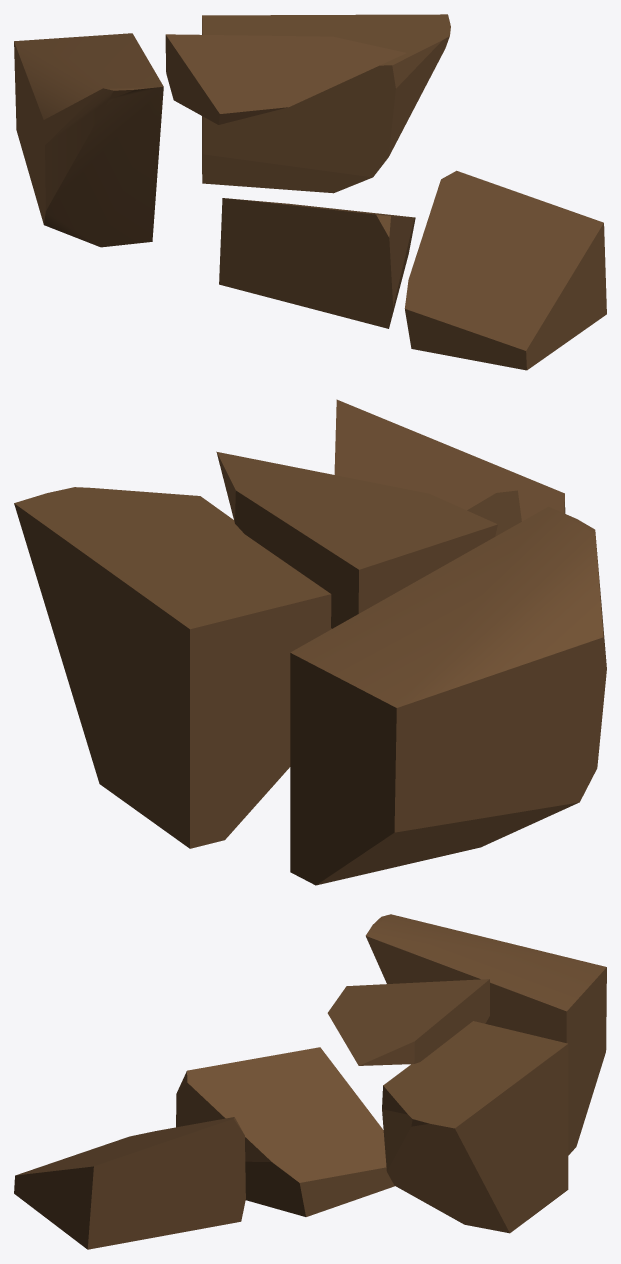
Rendered from SM_stones_debris_01.fbx.
3 renders of one model, top to bottom at view 1: azimuth 30°, elevation 25°; view 2: azimuth 150°, elevation 25°; view 3: azimuth 270°, elevation 25°, orthographic. The views are drawn at different scales.
Visible parts, largest first — view 1: stones_debris_01; view 2: stones_debris_01; view 3: stones_debris_01.
Boxes of the visible parts, bbox=[...] form: stones_debris_01: bbox=[14, 14, 606, 370]; stones_debris_01: bbox=[14, 399, 606, 885]; stones_debris_01: bbox=[14, 914, 606, 1249].
Bounding box in the file's own units: 189 × 87.77 × 251.
